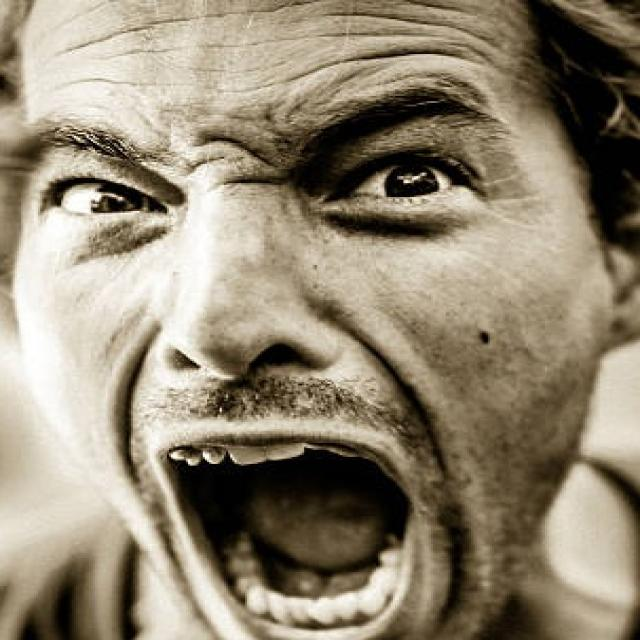Anxiety: (12, 0, 614, 638)
